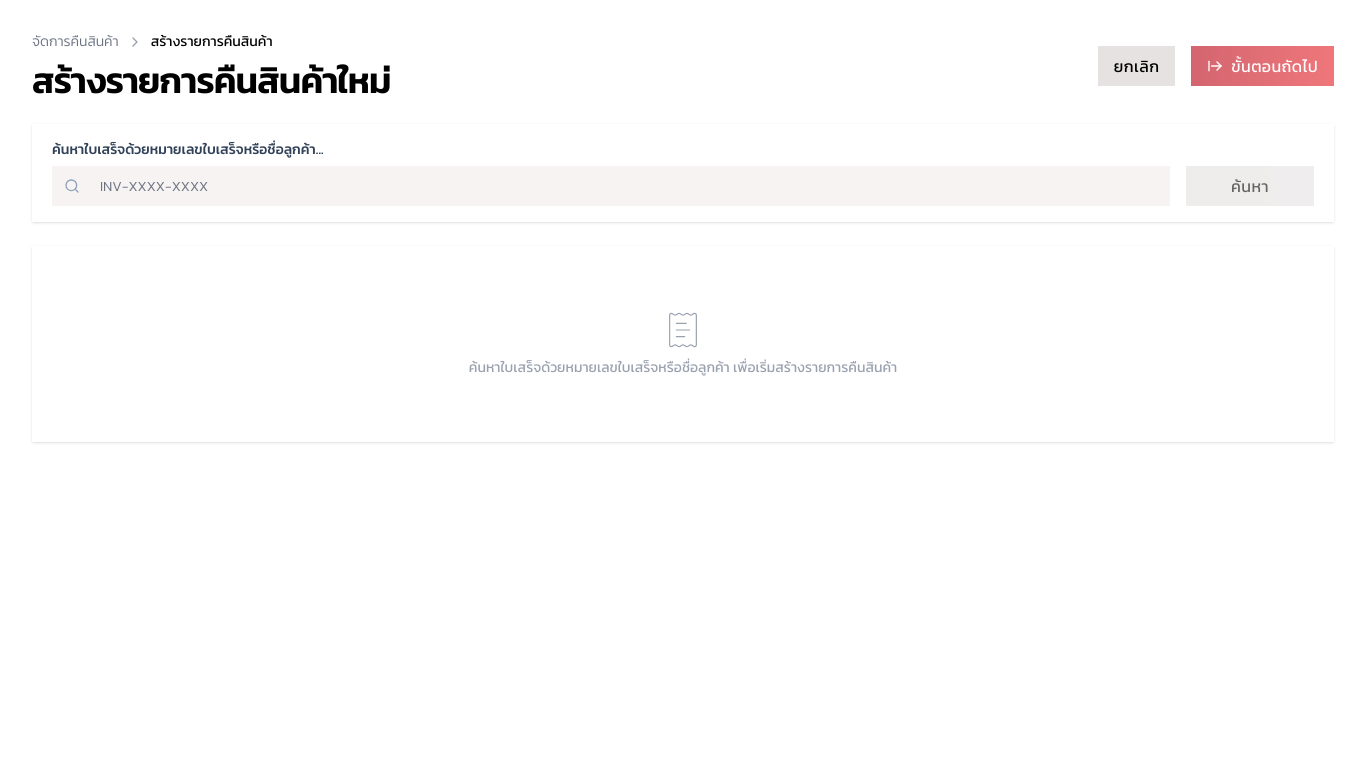
Test: New return › clamps typed return quantities to one through the quantity sold
This screenshot has width=1366, height=768.
Type "SO-TEST" into the field with placeholder "INV-XXXX-XXXX" at [611, 186], box [52,166,1170,206]
Then press Enter
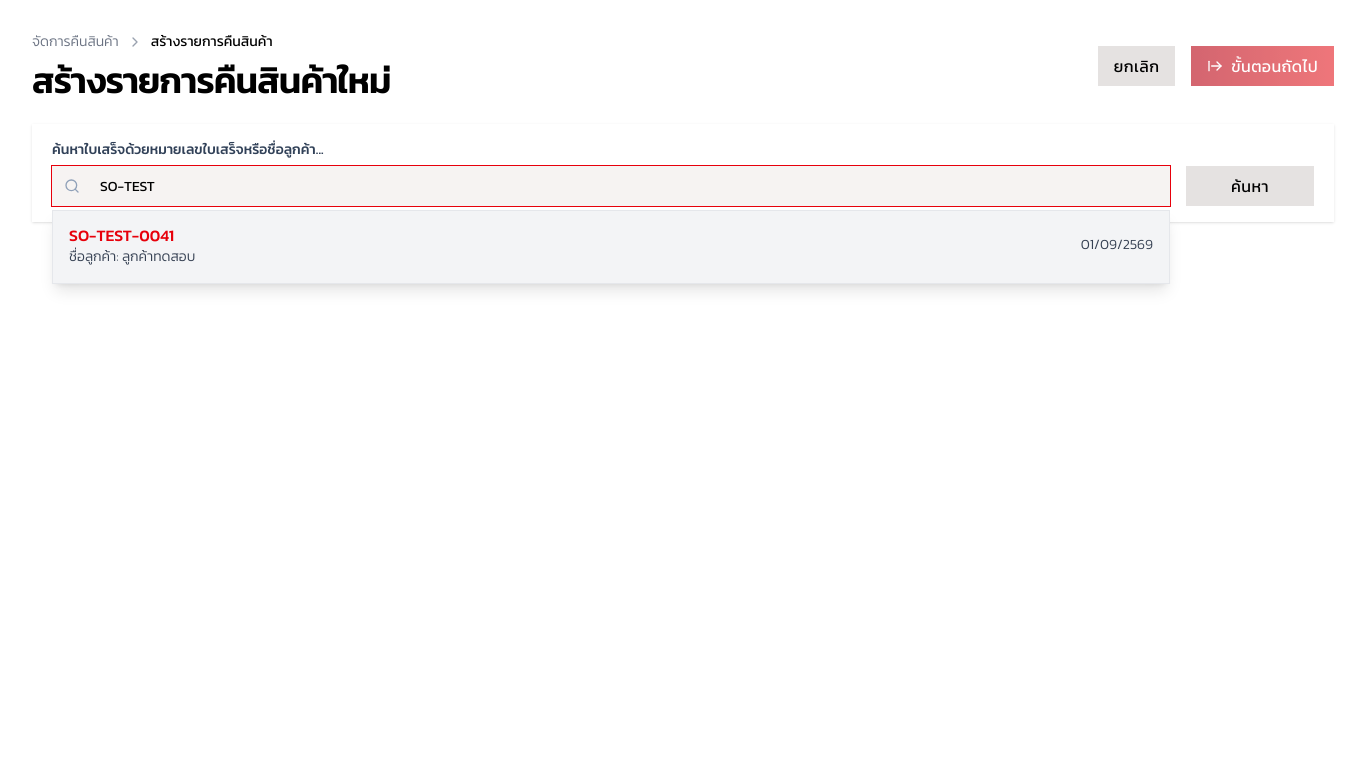
Click the button "SO-TEST-0041 ชื่อลูกค้า: ลูกค้าทดสอบ 01/09/2569" at [122, 235], box [53,211,1169,283]
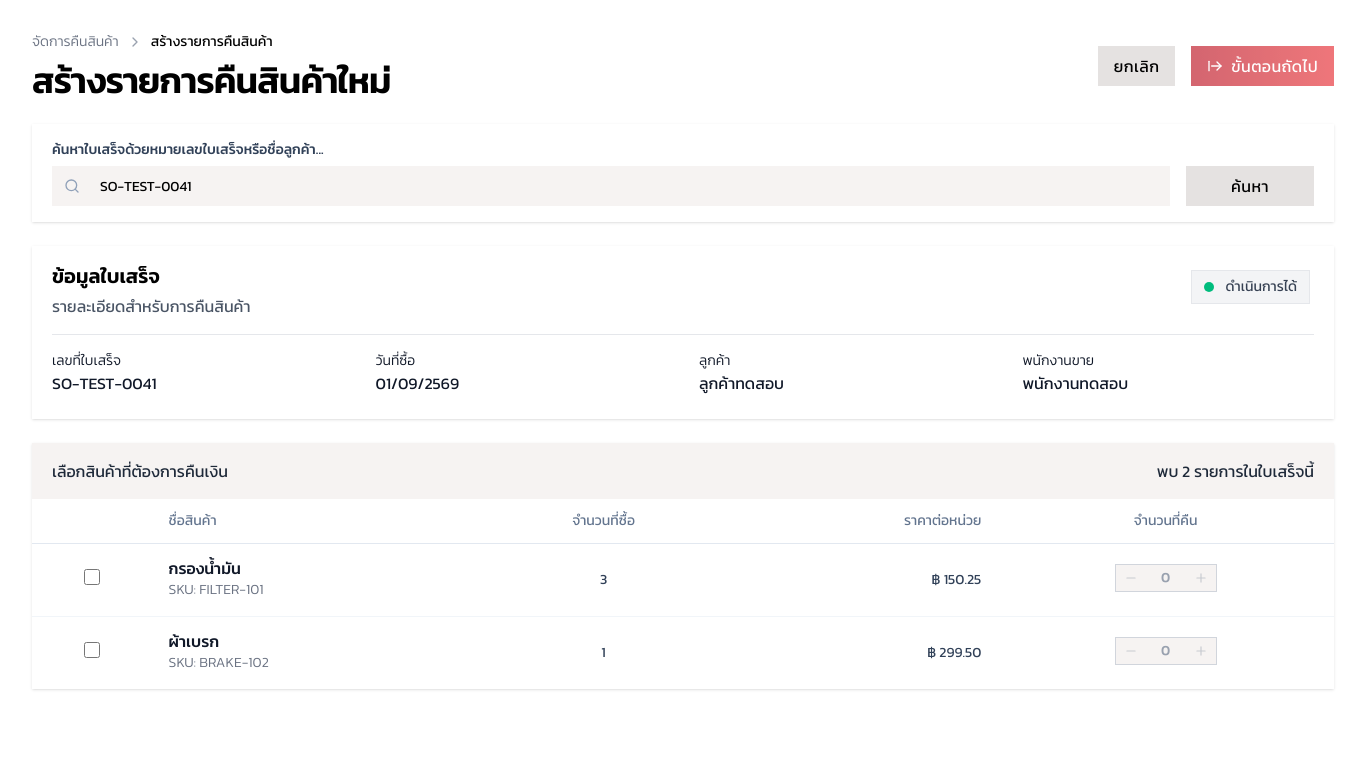
Click the checkbox next to "กรองน้ำมัน" at [92, 577], box [84,569,100,585]
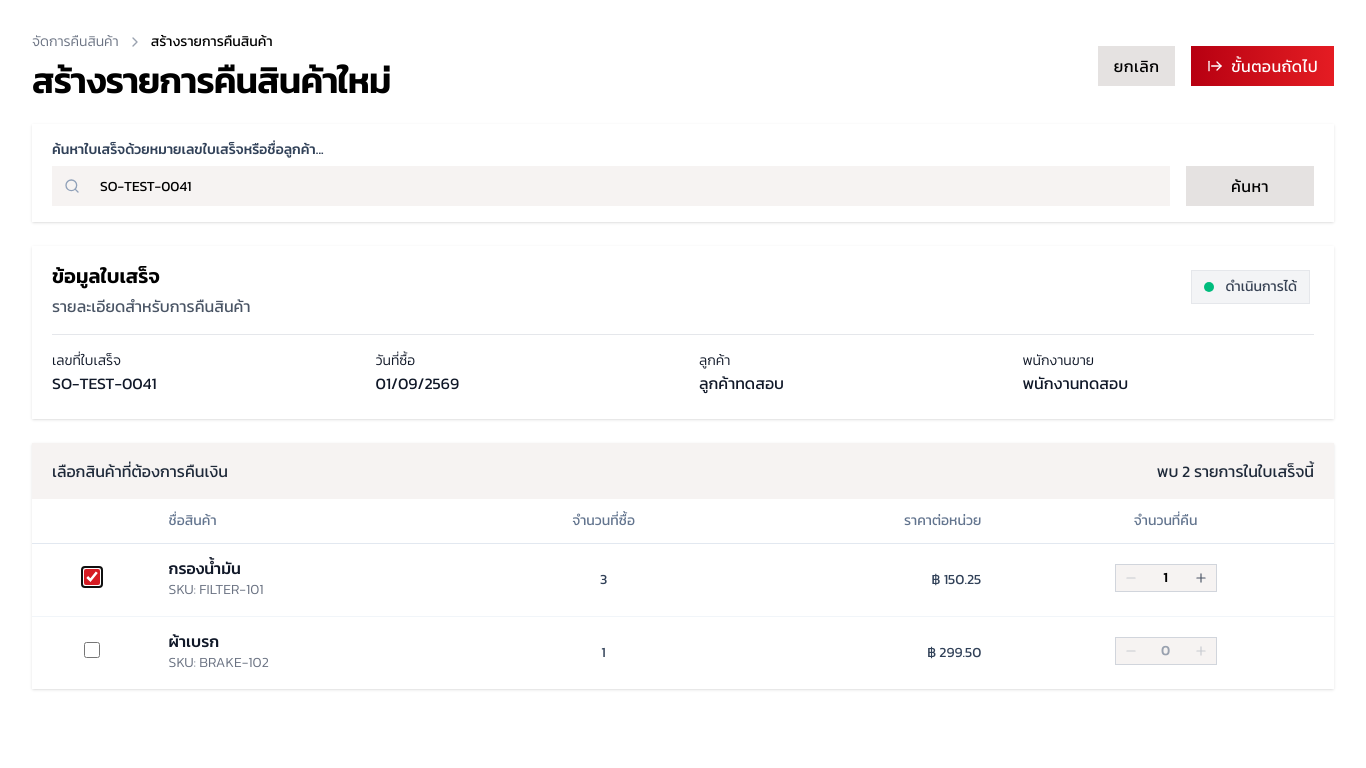
Replace the text in the field in the row of "กรองน้ำมัน" with "999" at [1166, 578], box [1146,568,1186,588]
Press Tab
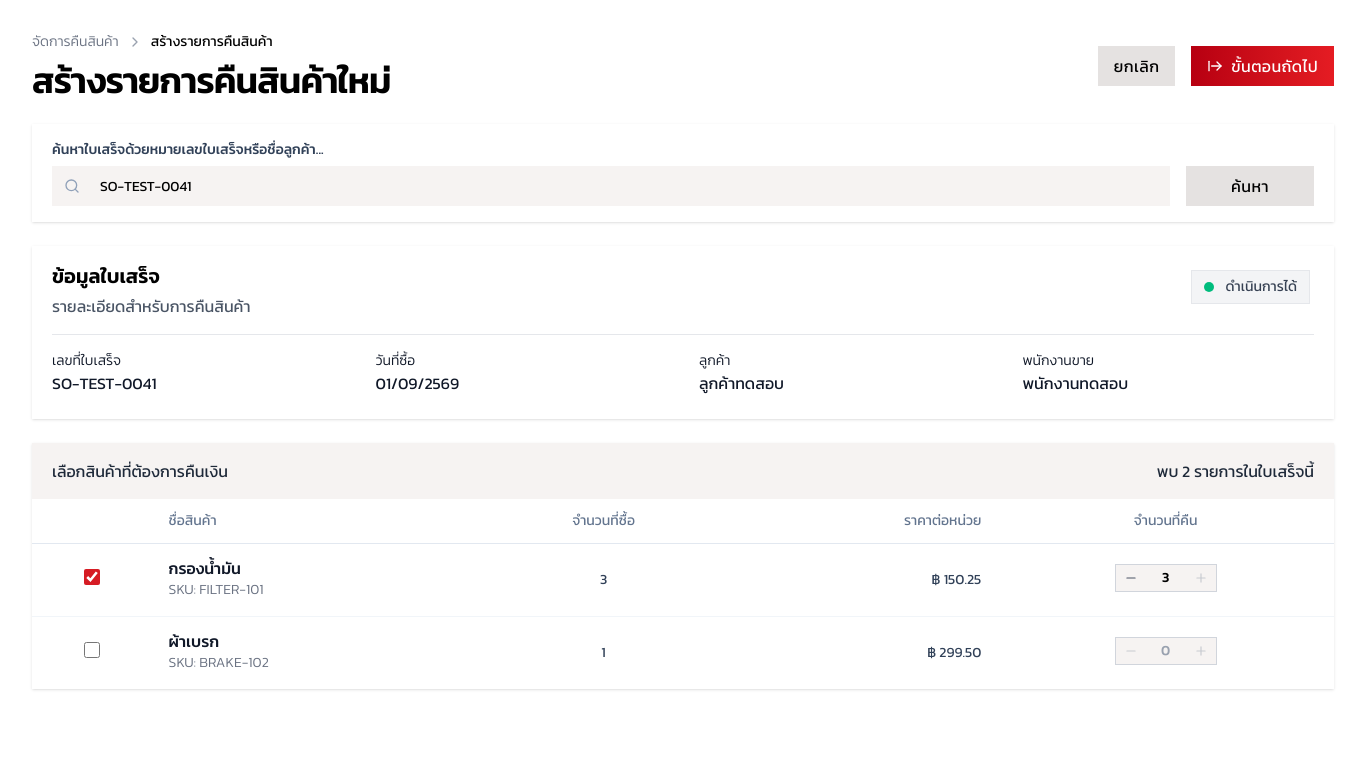
expect the field in the row of "กรองน้ำมัน" holds "3": met
expect the 5th button is disabled: met, box [1186,564,1216,590]
Clear the field in the row of "กรองน้ำมัน" at [1166, 578], box [1146,568,1186,588]
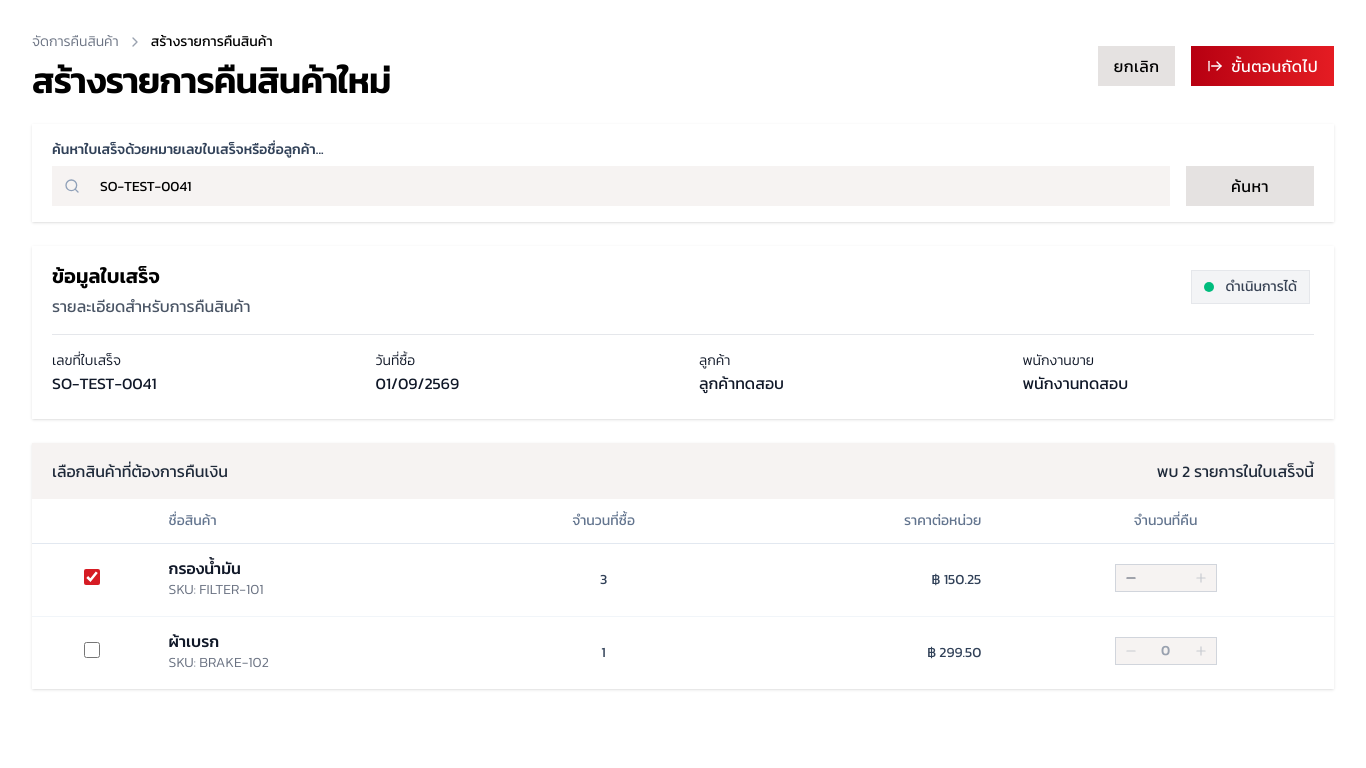
Press Tab
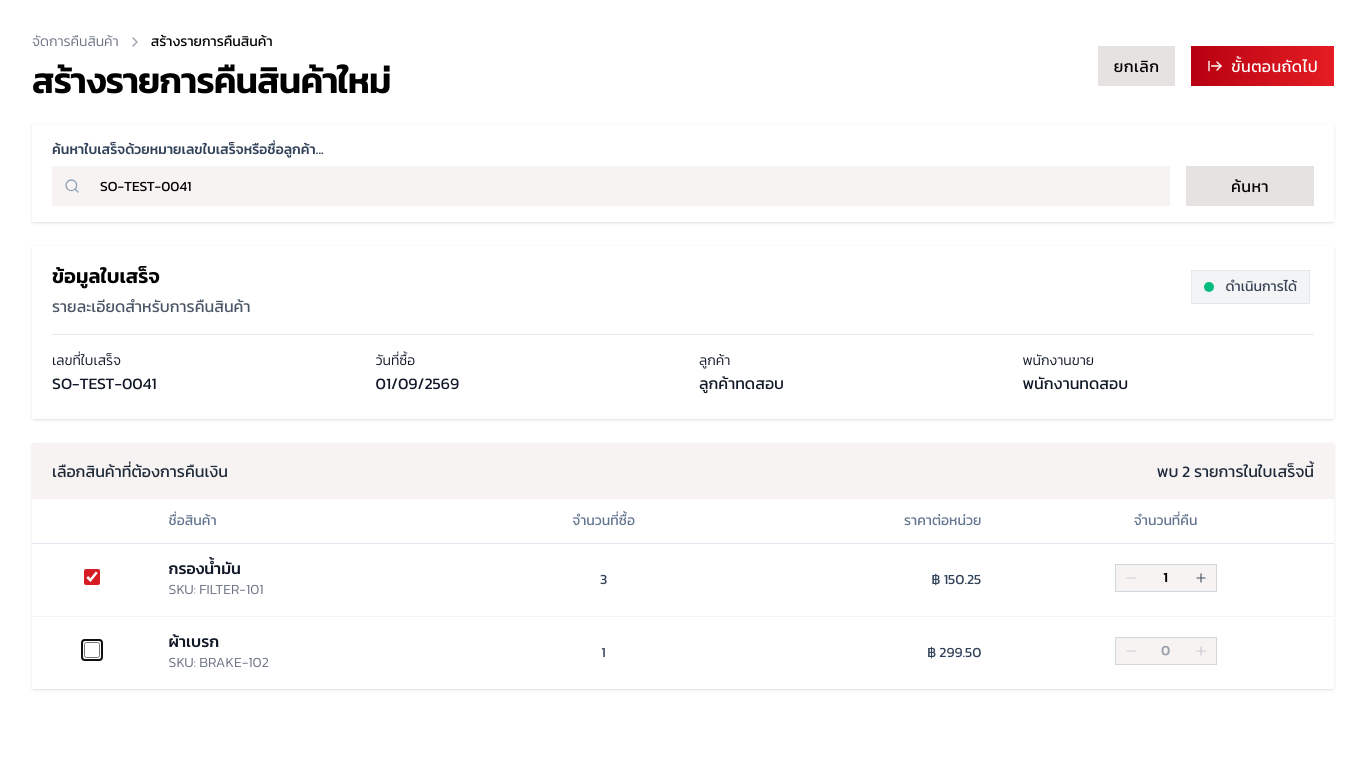
expect the field in the row of "กรองน้ำมัน" holds "1": met, box [1146,568,1186,588]
expect the 4th button is disabled: met, box [1116,564,1146,590]
